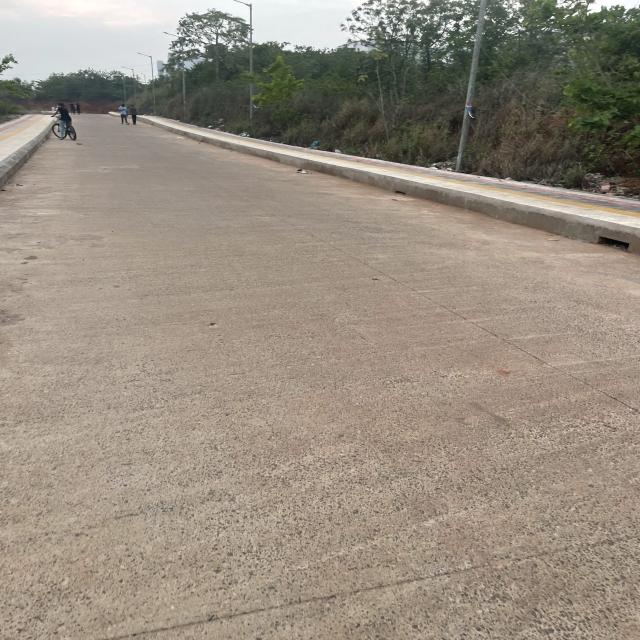D01: (356, 236, 495, 366)
